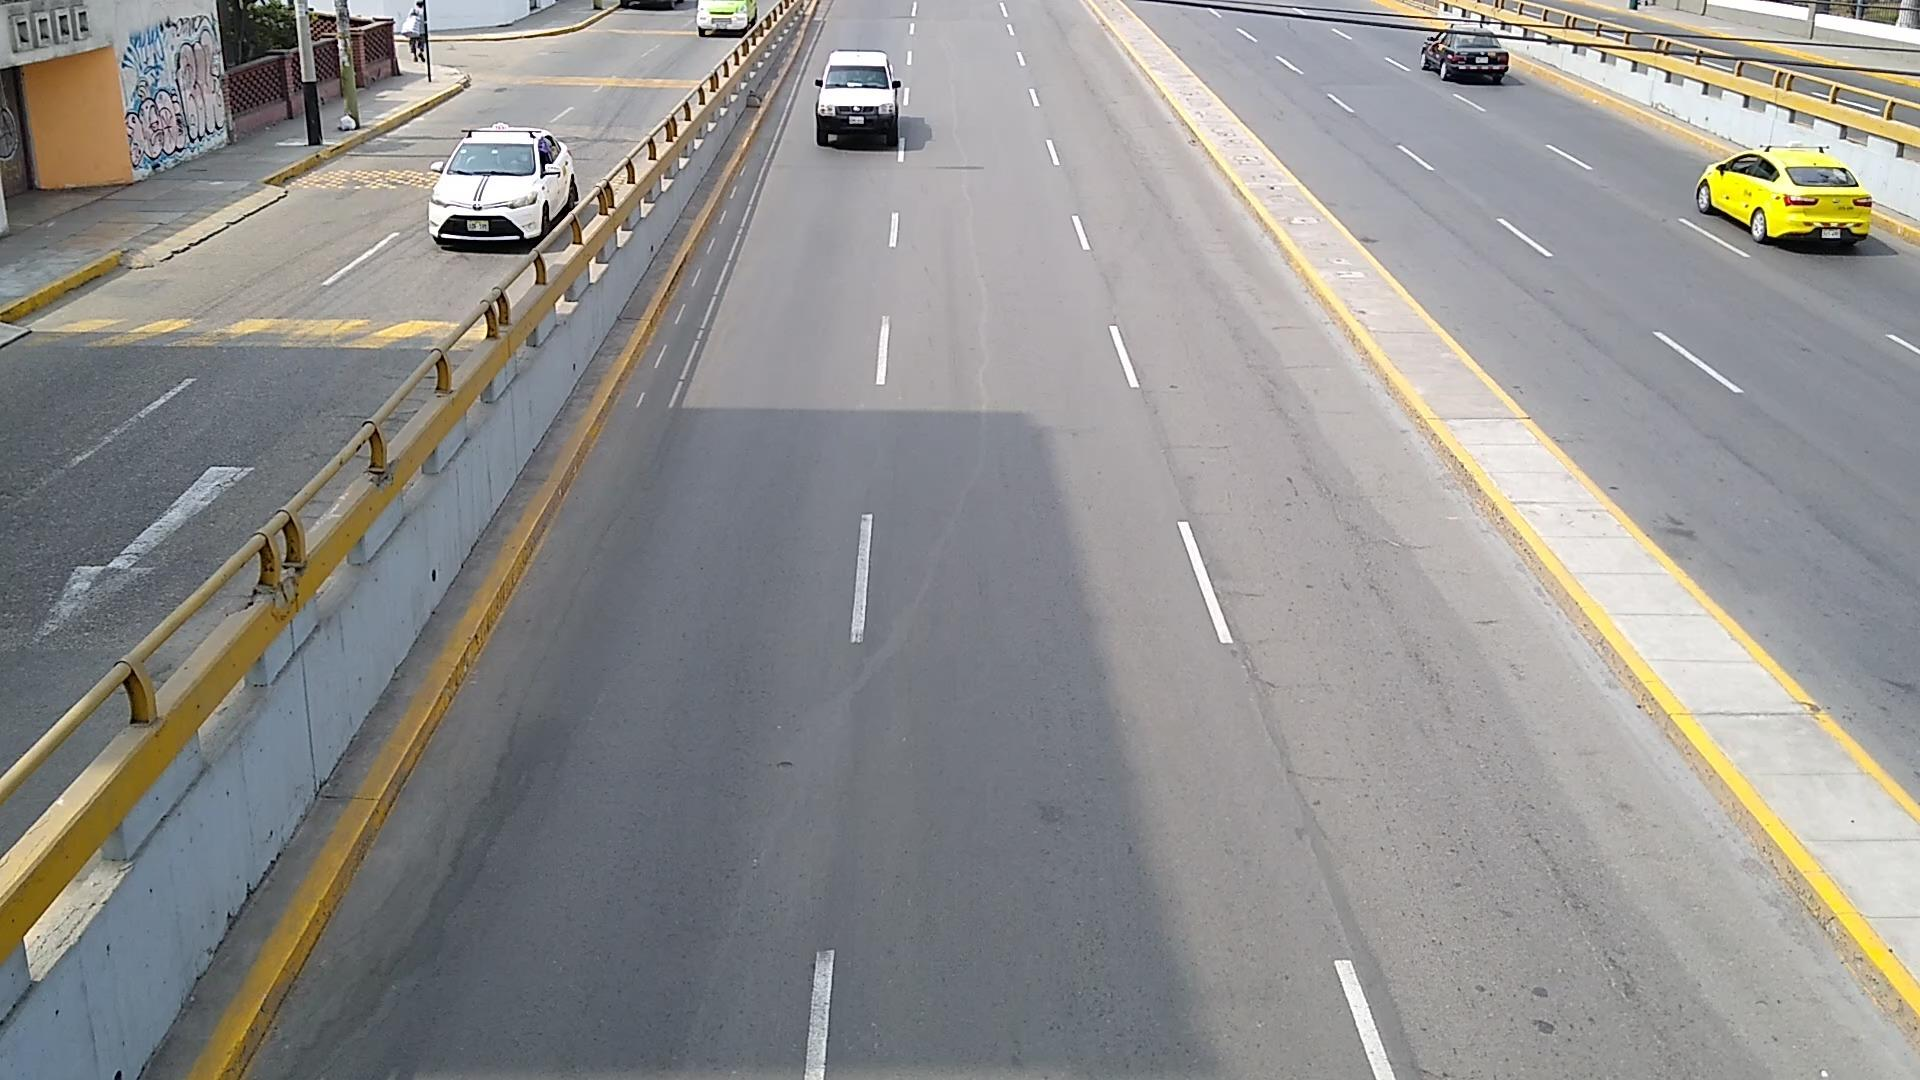car: (311, 0, 334, 15)
